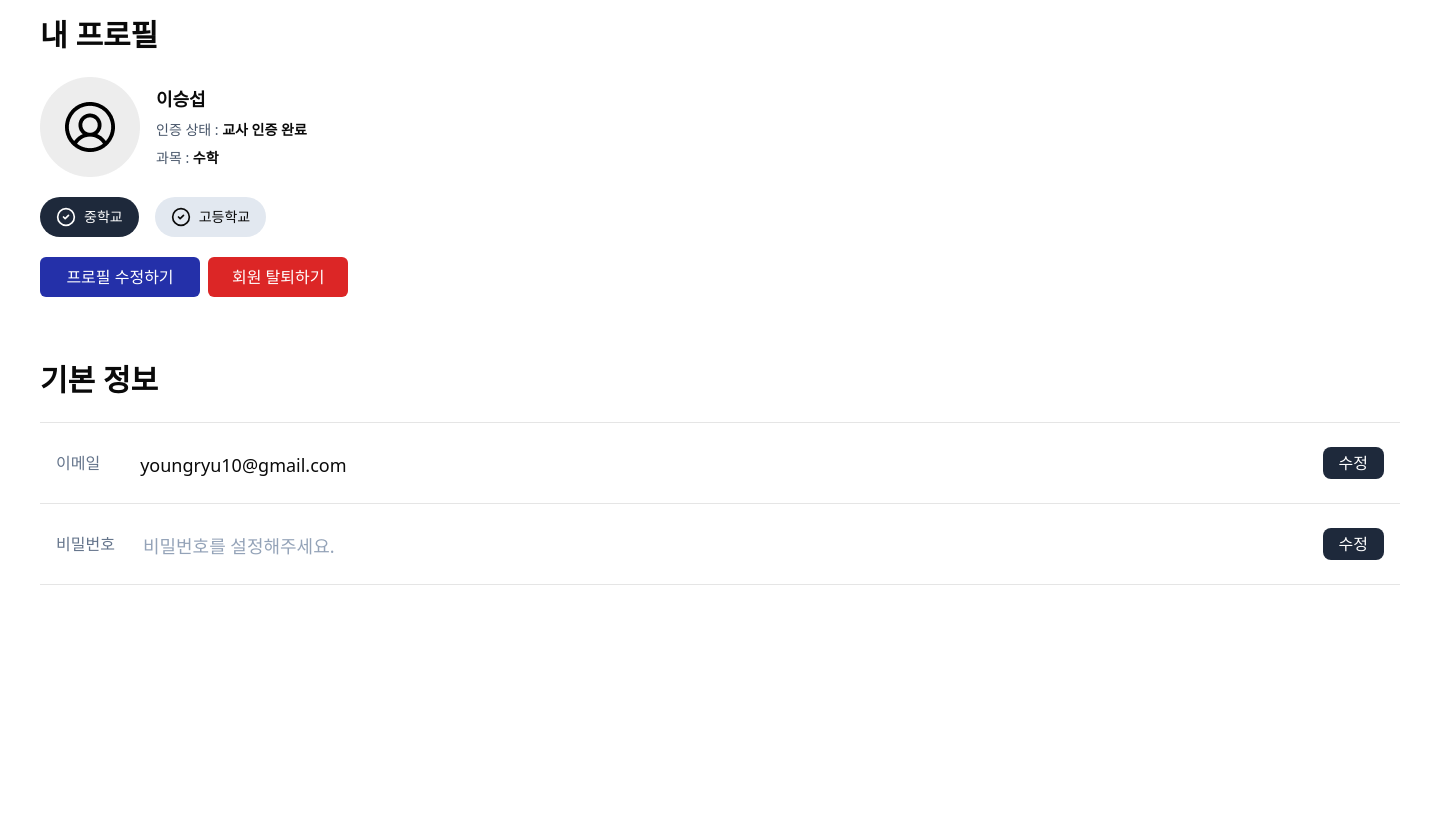
it: profile 기능 통합 테스트 › 프로필 수정하기에서 취소 버튼을 누르면 profile-view 컴포넌트가 정상적으로 렌더링된다
The image size is (1440, 822).
Click the button "프로필 수정하기": coordinates (120, 277) x1=40 y1=257 x2=200 y2=297
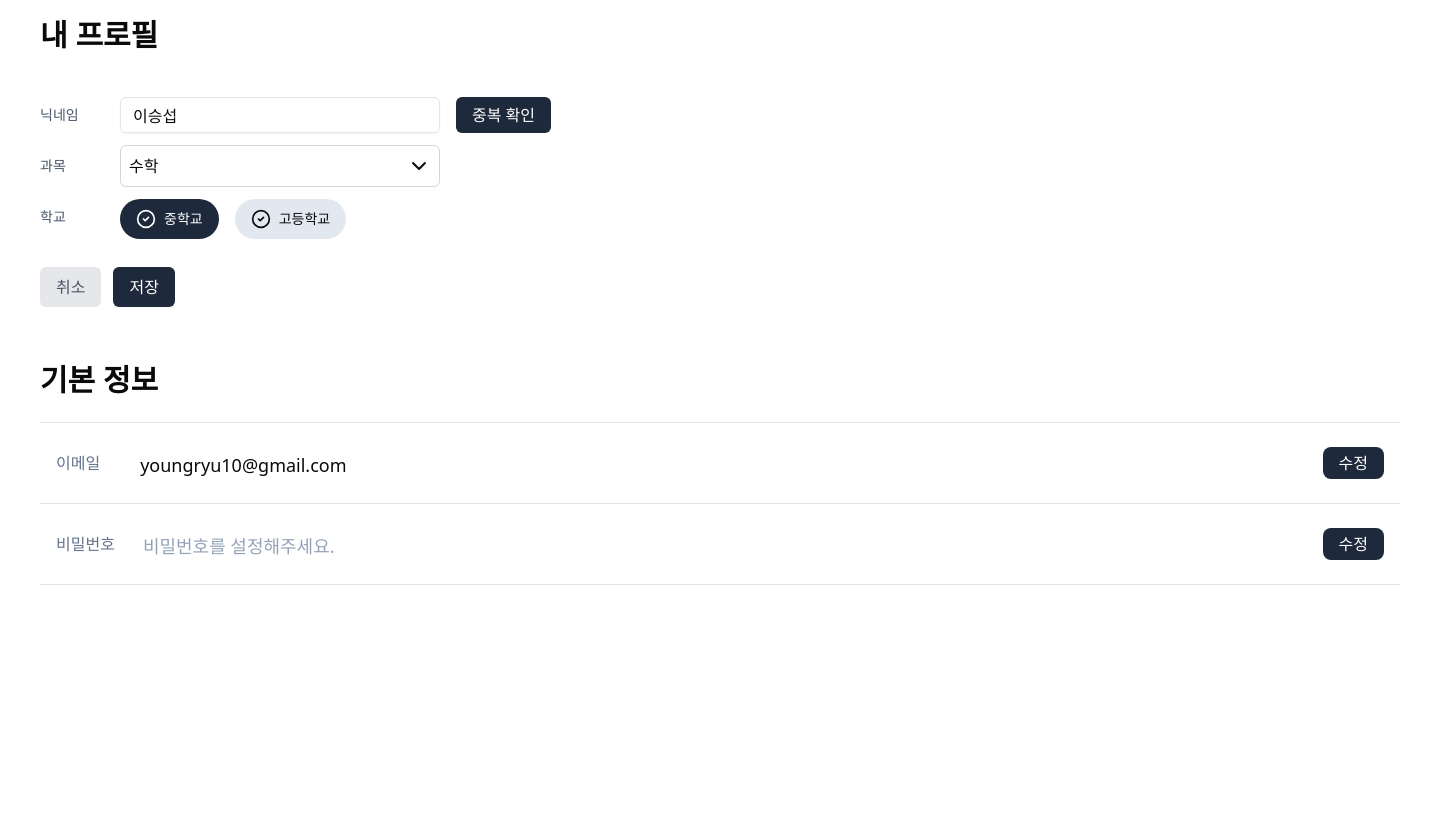
Click the button "취소": coordinates (71, 287) x1=40 y1=267 x2=102 y2=307
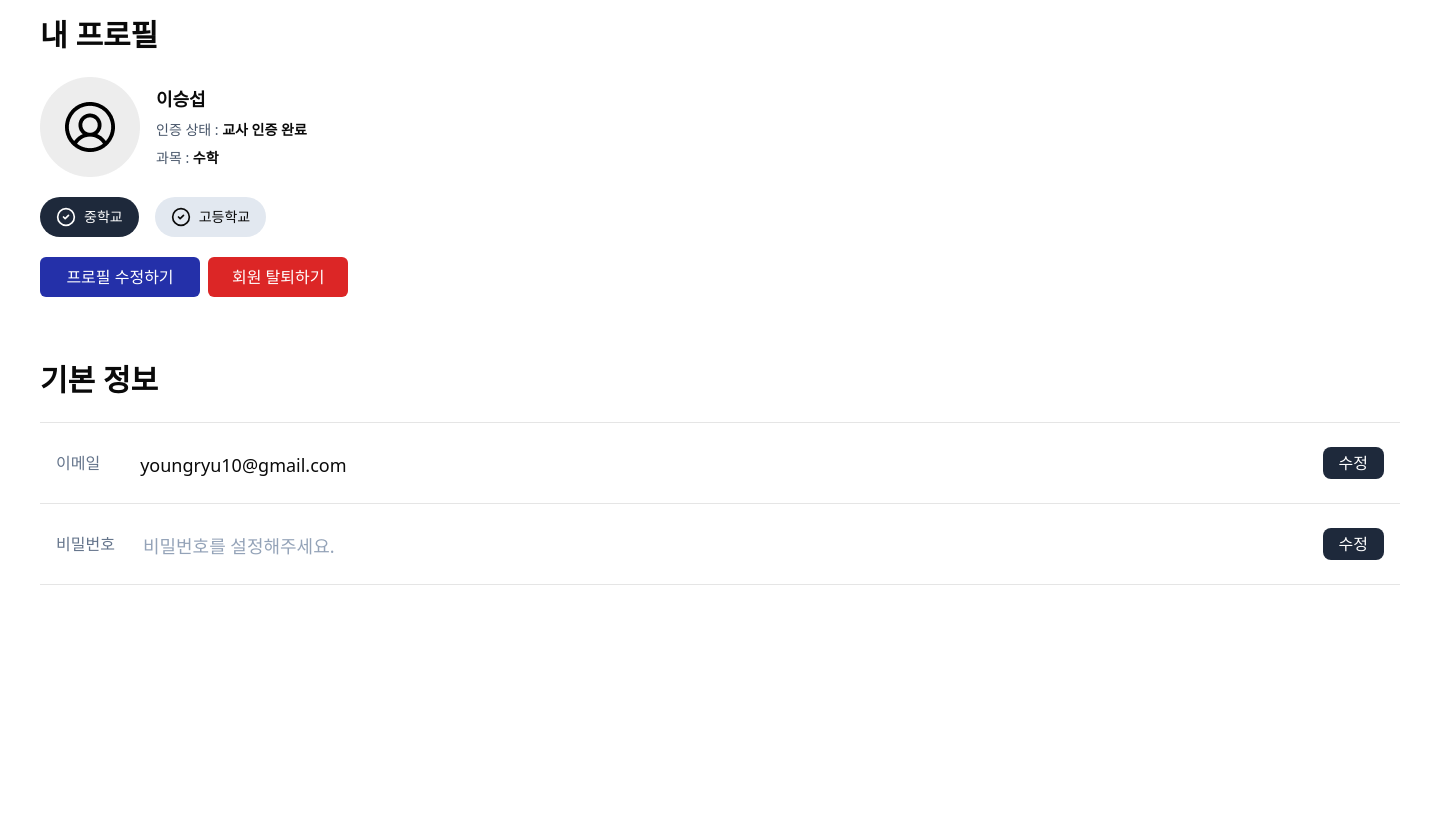
Result: the text "인증 상태 :" is shown at x1=156 y1=120 x2=222 y2=139
Result: the text "과목 :" is shown at x1=156 y1=148 x2=193 y2=167
Result: the button "프로필 수정하기" is shown at x1=40 y1=257 x2=200 y2=297
